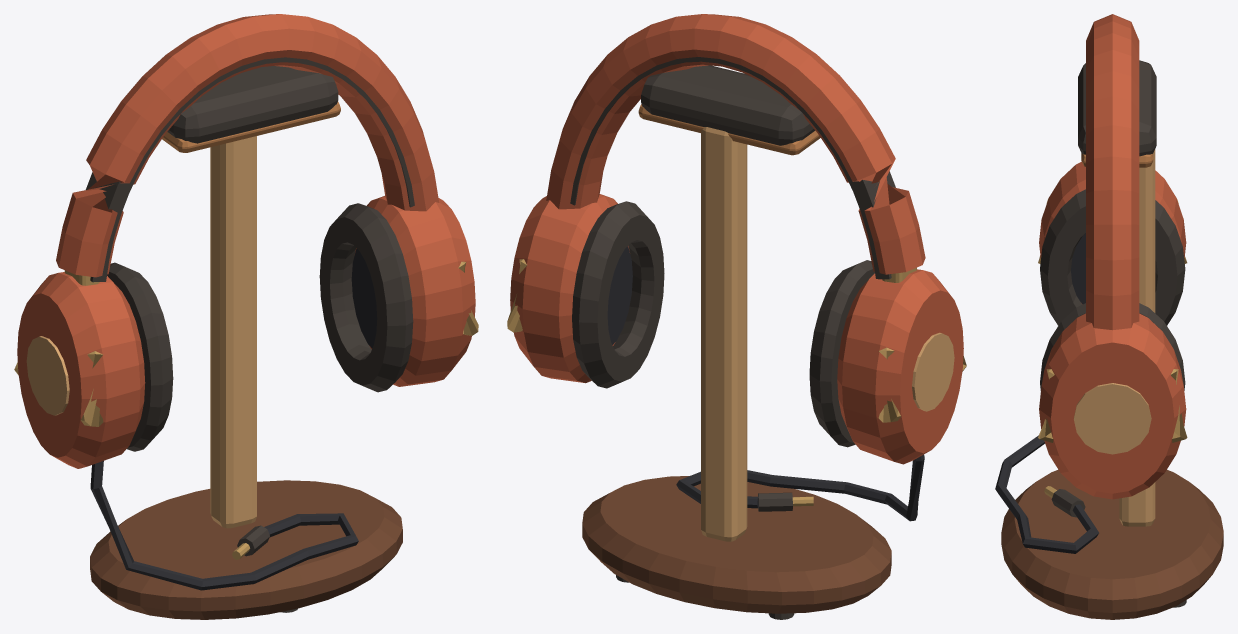
Rendered from 011_headphones_on_stand_v02.glb.
3 renders of one model, left to right at view 1: azimuth 30°, elevation 25°; view 2: azimuth 150°, elevation 25°; view 3: azimuth 270°, elevation 25°, orthographic. The views are drawn at different scales.
Parts seen in each view (by area): view 1: Headband terracotta shell, Weighted headphone stand base, Headphone stand upright, Faceted earcup housing, Raised oval ear cushion.001, Faceted earcup housing.001, Soft curved stand saddle, Raised oval ear cushion, Headphone cable, Broad padded arch ribbon, Earcup outer medallion, Recessed ear driver cloth.001 (+1 smaller); view 2: Weighted headphone stand base, Headband terracotta shell, Headphone stand upright, Faceted earcup housing, Raised oval ear cushion.001, Faceted earcup housing.001, Soft curved stand saddle, Raised oval ear cushion, Headphone cable, Broad padded arch ribbon, Earcup outer medallion, Recessed ear driver cloth.001 (+2 smaller); view 3: Weighted headphone stand base, Faceted earcup housing.001, Headband terracotta shell, Raised oval ear cushion, Earcup outer medallion.001, Headphone stand upright, Headphone cable, Faceted earcup housing, Soft curved stand saddle, Raised oval ear cushion.001, Recessed ear driver cloth, Open earcup yoke.001 (+1 smaller).
Part boxes in pixels (x1=…): Headband terracotta shell: x1=56, y1=14, x2=439, y2=277; Weighted headphone stand base: x1=90, y1=480, x2=402, y2=619; Headphone stand upright: x1=210, y1=136, x2=256, y2=528; Faceted earcup housing: x1=17, y1=272, x2=145, y2=468; Raised oval ear cushion.001: x1=319, y1=203, x2=413, y2=392; Faceted earcup housing.001: x1=354, y1=196, x2=475, y2=386; Soft curved stand saddle: x1=167, y1=66, x2=338, y2=143; Raised oval ear cushion: x1=107, y1=262, x2=173, y2=451; Headphone cable: x1=90, y1=461, x2=358, y2=590; Broad padded arch ribbon: x1=85, y1=57, x2=414, y2=282; Earcup outer medallion: x1=26, y1=336, x2=69, y2=415; Recessed ear driver cloth.001: x1=351, y1=249, x2=377, y2=348; Weighted headphone stand base: x1=582, y1=476, x2=891, y2=613; Headband terracotta shell: x1=546, y1=14, x2=925, y2=274; Headphone stand upright: x1=701, y1=127, x2=747, y2=541; Faceted earcup housing: x1=837, y1=269, x2=963, y2=464; Raised oval ear cushion.001: x1=572, y1=201, x2=664, y2=388; Faceted earcup housing.001: x1=510, y1=194, x2=629, y2=383; Soft curved stand saddle: x1=641, y1=65, x2=814, y2=145; Raised oval ear cushion: x1=809, y1=260, x2=874, y2=447; Headphone cable: x1=676, y1=454, x2=924, y2=521; Broad padded arch ribbon: x1=570, y1=57, x2=895, y2=279; Earcup outer medallion: x1=912, y1=332, x2=954, y2=411; Recessed ear driver cloth.001: x1=607, y1=246, x2=632, y2=344; Weighted headphone stand base: x1=1001, y1=469, x2=1223, y2=619; Faceted earcup housing.001: x1=1039, y1=313, x2=1186, y2=499; Headband terracotta shell: x1=1086, y1=14, x2=1139, y2=330; Raised oval ear cushion: x1=1040, y1=189, x2=1185, y2=325; Earcup outer medallion.001: x1=1073, y1=383, x2=1151, y2=454; Headphone stand upright: x1=1119, y1=149, x2=1155, y2=526; Headphone cable: x1=995, y1=435, x2=1098, y2=553; Faceted earcup housing: x1=1039, y1=161, x2=1186, y2=304; Soft curved stand saddle: x1=1078, y1=60, x2=1156, y2=156; Raised oval ear cushion.001: x1=1040, y1=303, x2=1185, y2=390; Recessed ear driver cloth: x1=1071, y1=233, x2=1085, y2=304; Open earcup yoke.001: x1=1038, y1=369, x2=1187, y2=442.
Bounding box in the file's own units: 0.466 × 0.6248 × 0.2413.
